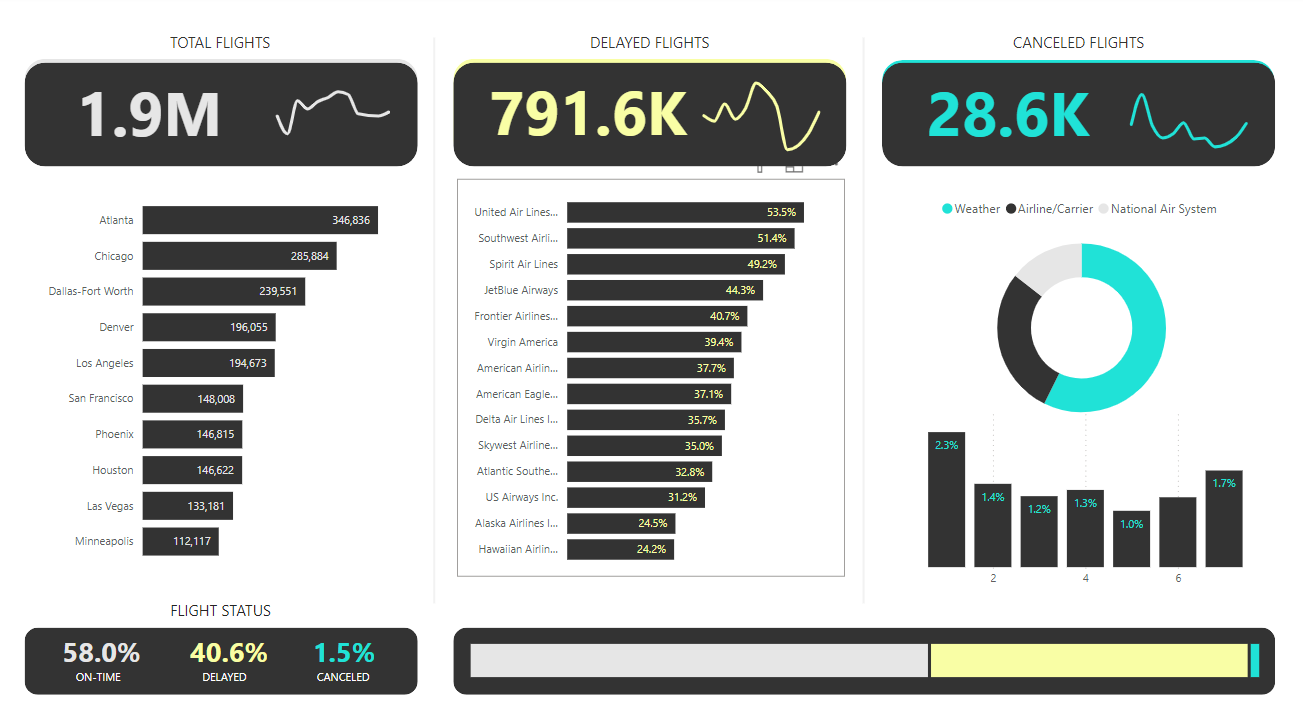

This screenshot's page, from the dashboard's own definition file:
{"tool":"powerbi","page":{"name":"Flight Status Dashboard ","canvas":[1280,720],"ordinal":0},"visuals":[{"type":"shape","box":[858.4,55,368.1,132.1],"z":0},{"type":"shape","box":[26.9,52.6,377.9,134.5],"z":1000},{"type":"shape","box":[447.6,56.3,353.4,130.8],"z":2000},{"type":"textbox","box":[155.3,14.7,123.5,37.9],"z":3000},{"type":"textbox","box":[563.7,17.1,178.5,37.9],"z":4000},{"type":"textbox","box":[980.7,15.9,198.1,37.9],"z":5000},{"type":"textbox","box":[51.4,80.7,123.5,37.9],"z":6000},{"type":"textbox","box":[247,80.7,123.5,37.9],"z":7000},{"type":"textbox","box":[472,80.7,123.5,37.9],"z":8000},{"type":"textbox","box":[639.5,80.7,123.5,37.9],"z":9000},{"type":"textbox","box":[890.2,80.7,123.5,37.9],"z":10000},{"type":"textbox","box":[1071.2,80.7,123.5,37.9],"z":11000},{"type":"shape","box":[26.9,202,377.9,333.8],"z":12000},{"type":"shape","box":[447.6,203.2,353.4,333.8],"z":13000},{"type":"shape","box":[858.4,201.8,368.1,157.7],"z":14000},{"type":"shape","box":[858.4,370.7,368.1,166.3],"z":15000},{"type":"textbox","box":[113.7,351.2,195.7,37.9],"z":16000},{"type":"textbox","box":[527,352.4,195.7,37.9],"z":17000},{"type":"textbox","box":[952.6,260.7,195.7,37.9],"z":18000},{"type":"textbox","box":[930.6,435.6,226.2,37.9],"z":19000},{"type":"textbox","box":[154.1,545.4,123.5,37.9],"z":20000},{"type":"shape","box":[447.6,583.3,778.9,86.8],"z":21000},{"type":"textbox","box":[39.1,639.5,344.8,28.1],"z":22000},{"type":"textbox","box":[635.9,615.1,377.9,26.9],"z":23000},{"type":"card","fields":{"Values":["flights.Total Flights"]},"box":[51.4,58.7,144.3,118.6],"z":24000},{"type":"lineChart","fields":{"Category":["flights.MONTH"],"Y":["flights.Total Flights"]},"box":[185.9,61.1,198.1,118.6],"z":25000},{"type":"card","fields":{"Values":["flights.Delayed Flights"]},"box":[462.4,59.9,144.3,118.6],"z":26000},{"type":"lineChart","fields":{"Category":["flights.MONTH"],"Y":["flights.Delayed Flights"]},"box":[596.7,62.4,185.9,114.9],"z":27000},{"type":"card","fields":{"Values":["flights.Cancelled Flights"]},"box":[867.7,61.1,144.3,118.6],"z":28000},{"type":"lineChart","fields":{"Category":["flights.MONTH"],"Y":["flights.Cancelled Flights"]},"box":[1002.2,63.5,198.1,118.6],"z":29000},{"type":"card","fields":{"Values":["flights.% On-Time"]},"box":[52.8,587,102.7,80.7],"z":30000},{"type":"card","fields":{"Values":["flights.% Delayed"]},"box":[155.5,587,102.7,80.7],"z":31000},{"type":"card","fields":{"Values":["flights.% Cancelled"]},"box":[258.2,587,102.7,80.7],"z":32000},{"type":"clusteredBarChart","fields":{"Y":["flights.Total Flights"],"Category":["airports.CITY"]},"box":[39.1,221.3,348.5,299.6],"z":33000},{"type":"clusteredBarChart","fields":{"Y":["flights.Delayed Flights"],"Category":["airlines.AIRLINE"]},"box":[474.5,218.9,299.6,302],"z":34000},{"type":"donutChart","fields":{"Category":["cancellation_codes.CANCELLATION_DESCRIPTION"],"Y":["flights.Cancelled Flights"]},"box":[892.7,203,299.6,152.9],"z":35000},{"type":"columnChart","fields":{"Category":["flights.DAY_OF_WEEK"],"Y":["flights.% Cancelled"]},"box":[900,379.1,299.6,150.4],"z":36000},{"type":"barChart","fields":{"Y":["flights.Total Flights"],"Series":["flights.Status"]},"box":[447.6,583.3,778.9,86.8],"z":37000}]}

Visuals, with their boxes in screenshot pixels (x1, y1, x2, y2), scaled from the page's 1280x720 canvas onto the 1303x722 screenshot:
shape: crop(874, 55, 1249, 188)
shape: crop(27, 53, 412, 188)
shape: crop(456, 56, 815, 188)
textbox: crop(158, 15, 284, 53)
textbox: crop(574, 17, 756, 55)
textbox: crop(998, 16, 1200, 54)
textbox: crop(52, 81, 178, 119)
textbox: crop(251, 81, 377, 119)
textbox: crop(480, 81, 606, 119)
textbox: crop(651, 81, 777, 119)
textbox: crop(906, 81, 1032, 119)
textbox: crop(1090, 81, 1216, 119)
shape: crop(27, 203, 412, 537)
shape: crop(456, 204, 815, 538)
shape: crop(874, 202, 1249, 360)
shape: crop(874, 372, 1249, 538)
textbox: crop(116, 352, 315, 390)
textbox: crop(536, 353, 736, 391)
textbox: crop(970, 261, 1169, 299)
textbox: crop(947, 437, 1178, 475)
textbox: crop(157, 547, 283, 585)
shape: crop(456, 585, 1249, 672)
textbox: crop(40, 641, 391, 669)
textbox: crop(647, 617, 1032, 644)
card - flights.Total Flights: crop(52, 59, 199, 178)
lineChart - flights.MONTH x flights.Total Flights: crop(189, 61, 391, 180)
card - flights.Delayed Flights: crop(471, 60, 618, 179)
lineChart - flights.MONTH x flights.Delayed Flights: crop(607, 63, 797, 178)
card - flights.Cancelled Flights: crop(883, 61, 1030, 180)
lineChart - flights.MONTH x flights.Cancelled Flights: crop(1020, 64, 1222, 183)
card - flights.% On-Time: crop(54, 589, 158, 670)
card - flights.% Delayed: crop(158, 589, 263, 670)
card - flights.% Cancelled: crop(263, 589, 367, 670)
clusteredBarChart - flights.Total Flights x airports.CITY: crop(40, 222, 395, 522)
clusteredBarChart - flights.Delayed Flights x airlines.AIRLINE: crop(483, 220, 788, 522)
donutChart - cancellation_codes.CANCELLATION_DESCRIPTION x flights.Cancelled Flights: crop(909, 204, 1214, 357)
columnChart - flights.DAY_OF_WEEK x flights.% Cancelled: crop(916, 380, 1221, 531)
barChart - flights.Total Flights x flights.Status: crop(456, 585, 1249, 672)
